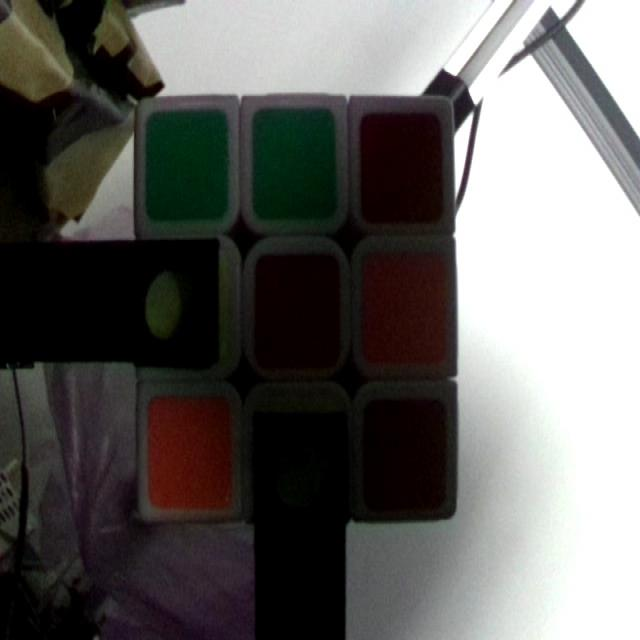g: (255, 112, 338, 221), (150, 114, 230, 214)
o: (148, 398, 232, 506), (365, 255, 446, 364)
r: (361, 403, 446, 508), (258, 259, 339, 368), (365, 110, 437, 214)
y: (256, 393, 345, 515), (139, 241, 228, 359)
